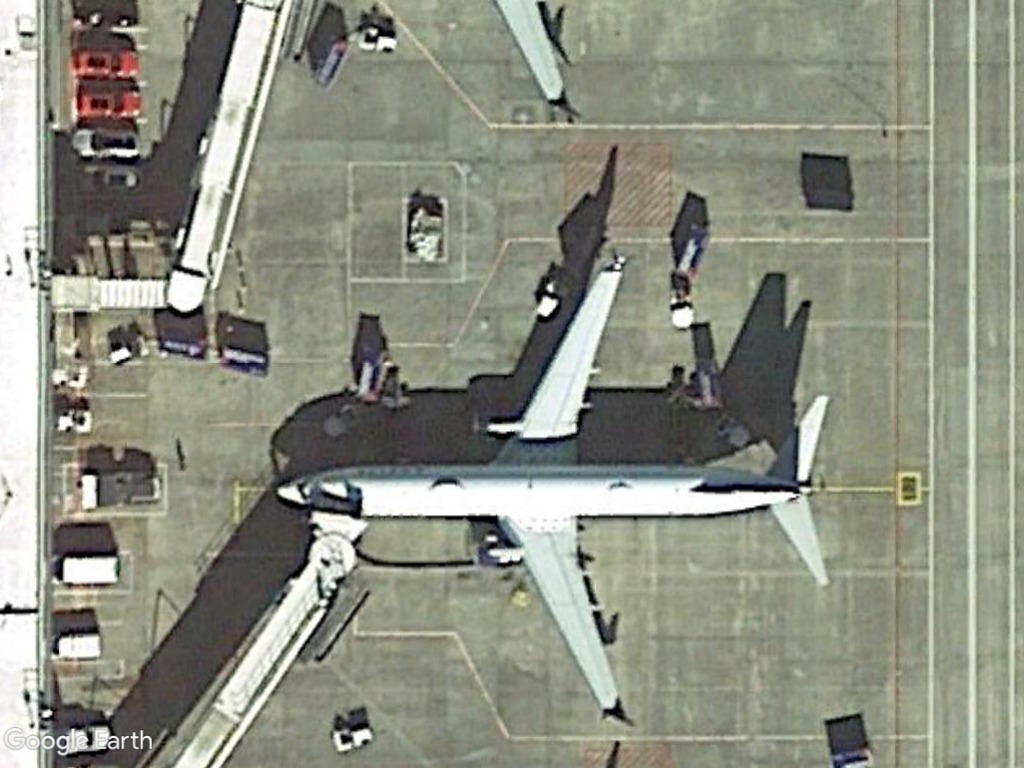airliner: (265, 251, 835, 726)
car: (67, 121, 148, 167), (67, 42, 146, 87)
